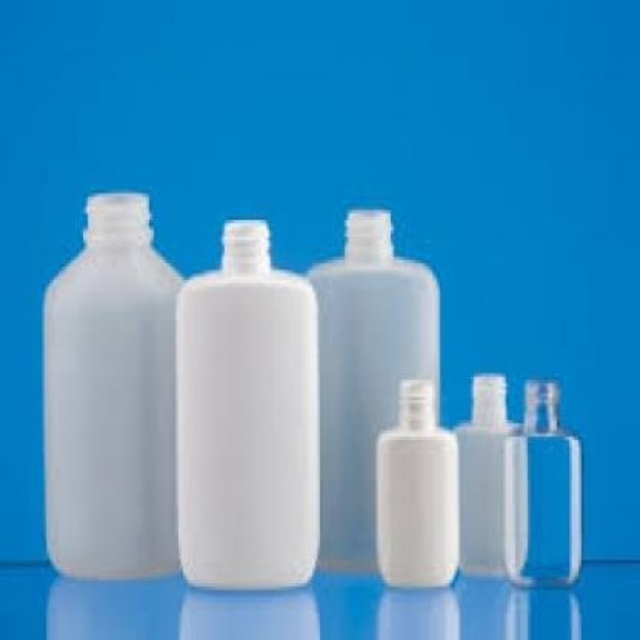trash: (177, 220, 317, 588), (45, 194, 178, 577), (309, 209, 437, 568), (377, 378, 457, 586), (457, 374, 526, 577), (520, 378, 580, 582)
